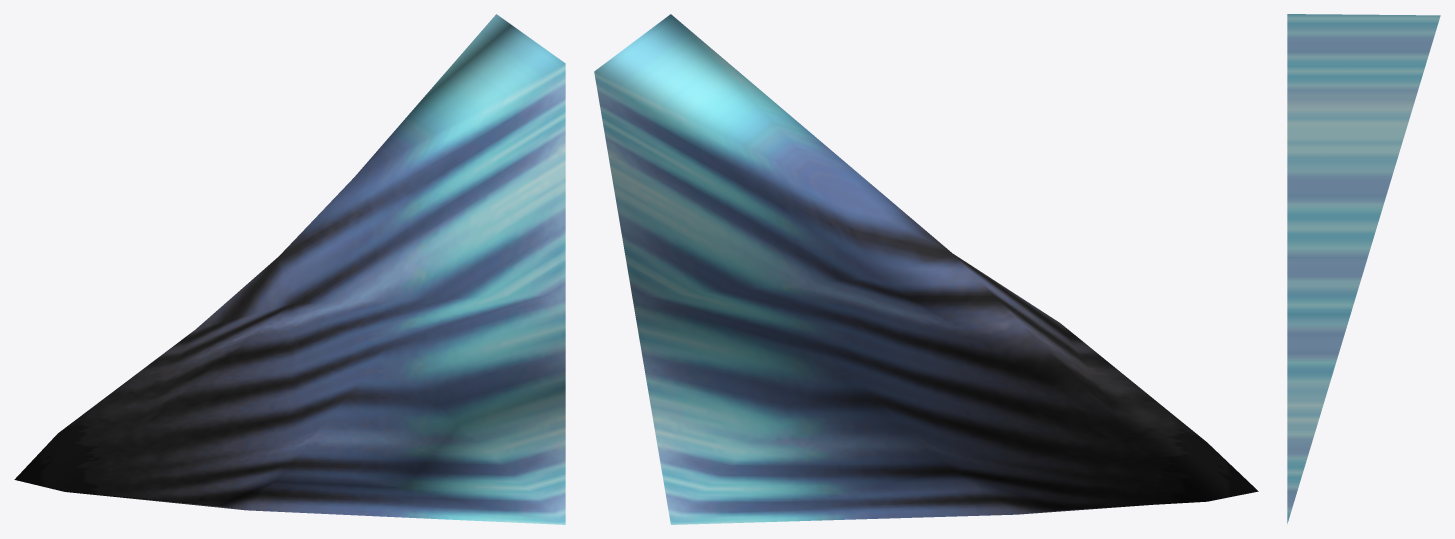
The model's file is LTorch.obj.
3 renders of one model, left to right at view 1: azimuth 30°, elevation 25°; view 2: azimuth 150°, elevation 25°; view 3: azimuth 270°, elevation 25°, orthographic. The views are drawn at different scales.
Size of the model in its own units: 1.16 by 0.9467 by 0.2577.
1 material, 1 textured.
